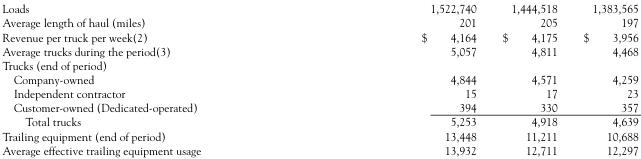table: (1, 1, 637, 156)
table column: (1, 1, 310, 156), (310, 1, 488, 156), (488, 1, 569, 156), (569, 1, 637, 156)
table column header: (1, 1, 637, 14)
table projected row header: (1, 57, 637, 71)
table row: (1, 14, 637, 29), (1, 113, 637, 128), (1, 29, 637, 43), (1, 43, 637, 57), (1, 57, 637, 71), (1, 71, 637, 85), (1, 85, 637, 99), (1, 99, 637, 113), (1, 128, 637, 142), (1, 142, 637, 156), (1, 1, 637, 14)
